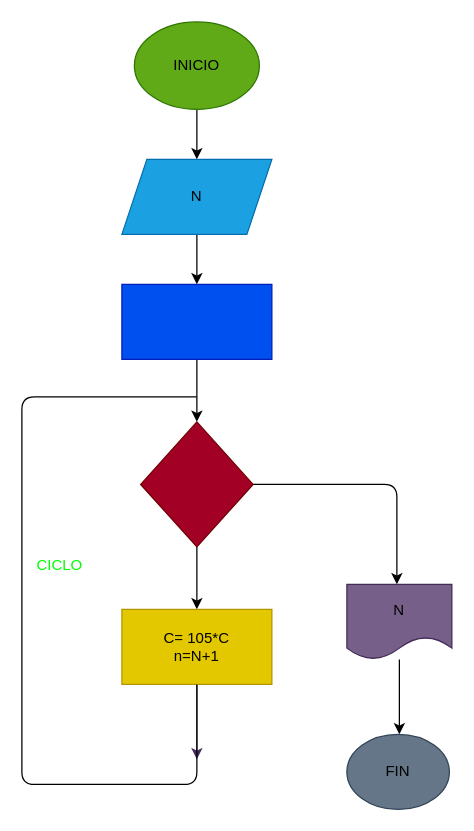
Some shapes in this 474 by 831 pixel diagram are drawn without their labels. The centre of each missing label's shape, as x and y in pixels:
"C <= D" belongs at point 196,484.
"N = 0 D = 2*C" belongs at point 196,321.
